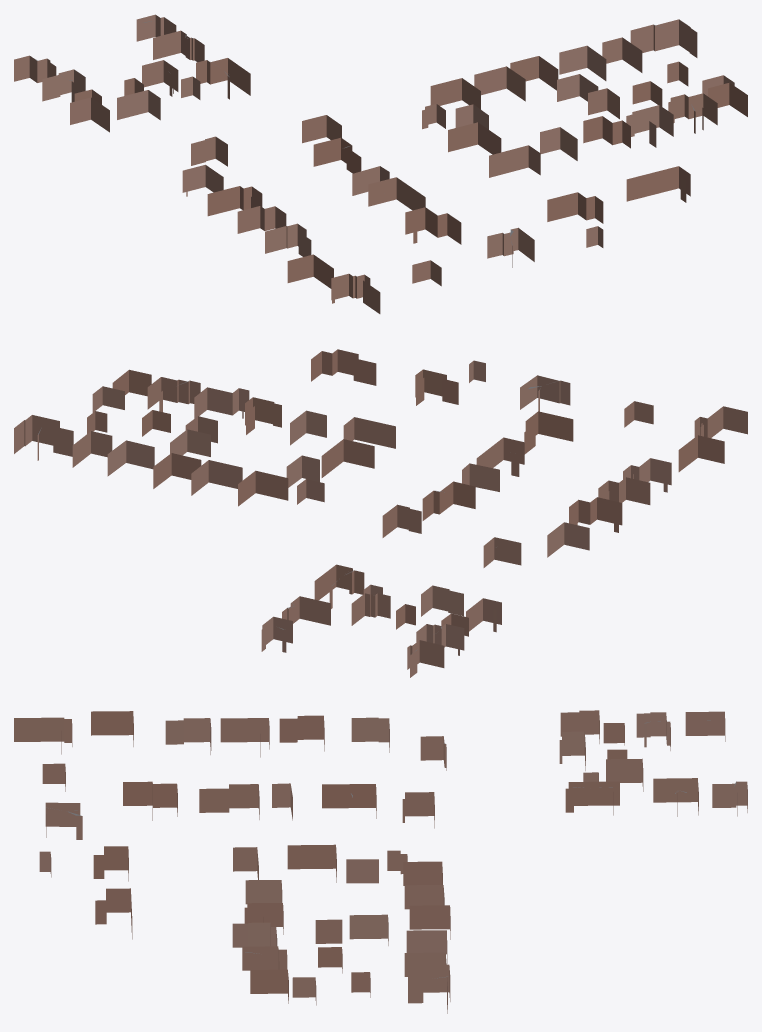
Rendered from c_1645_17830_buildings_residential.glb.
3 views of the same model, one above another, from view 1: azimuth 30°, elevation 25°; view 2: azimuth 150°, elevation 25°; view 3: azimuth 270°, elevation 25° (orthographic). The views are drawn at different scales.
Parts seen in each view (by area): view 1: geometry_0; view 2: geometry_0; view 3: geometry_0.
Boxes of the visible parts, x1,y1,x2,y2 form: geometry_0: (14, 14, 747, 313); geometry_0: (14, 349, 747, 677); geometry_0: (14, 710, 747, 1013).
Bounding box in the file's own units: 241 × 11.08 × 263.
